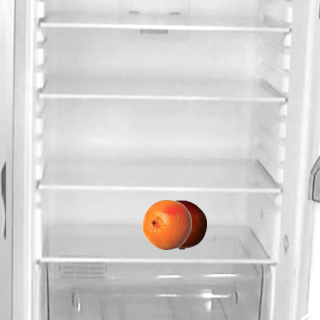Apple Braeburn: (156, 199, 206, 249)
Grapefruit Pink: (141, 199, 191, 249)
